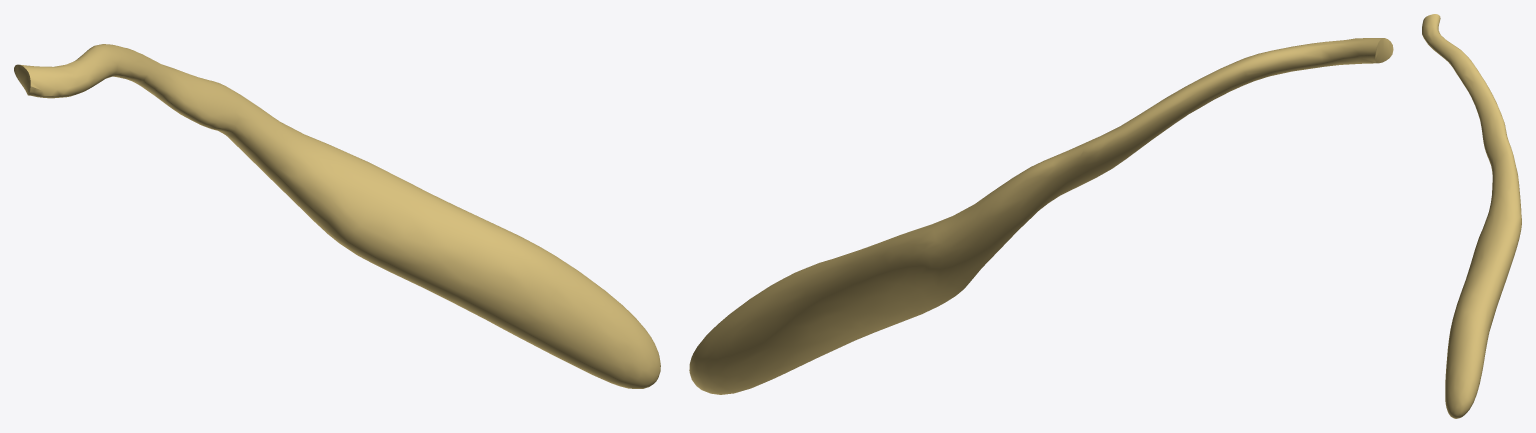
3 views of the same model, side by side, from view 1: azimuth 30°, elevation 25°; view 2: azimuth 150°, elevation 25°; view 3: azimuth 270°, elevation 25° (orthographic). The views are drawn at different scales.
Parts seen in each view (by area): view 1: 左侧绒球脚; view 2: 左侧绒球脚; view 3: 左侧绒球脚.
Boxes of the visible parts, left/top/right/bottom form: 左侧绒球脚: left=14, top=44, right=660, bottom=388; 左侧绒球脚: left=689, top=38, right=1393, bottom=394; 左侧绒球脚: left=1422, top=14, right=1521, bottom=418.
Bounding box in the file's own units: 0.0491 × 0.0348 × 0.0128.
